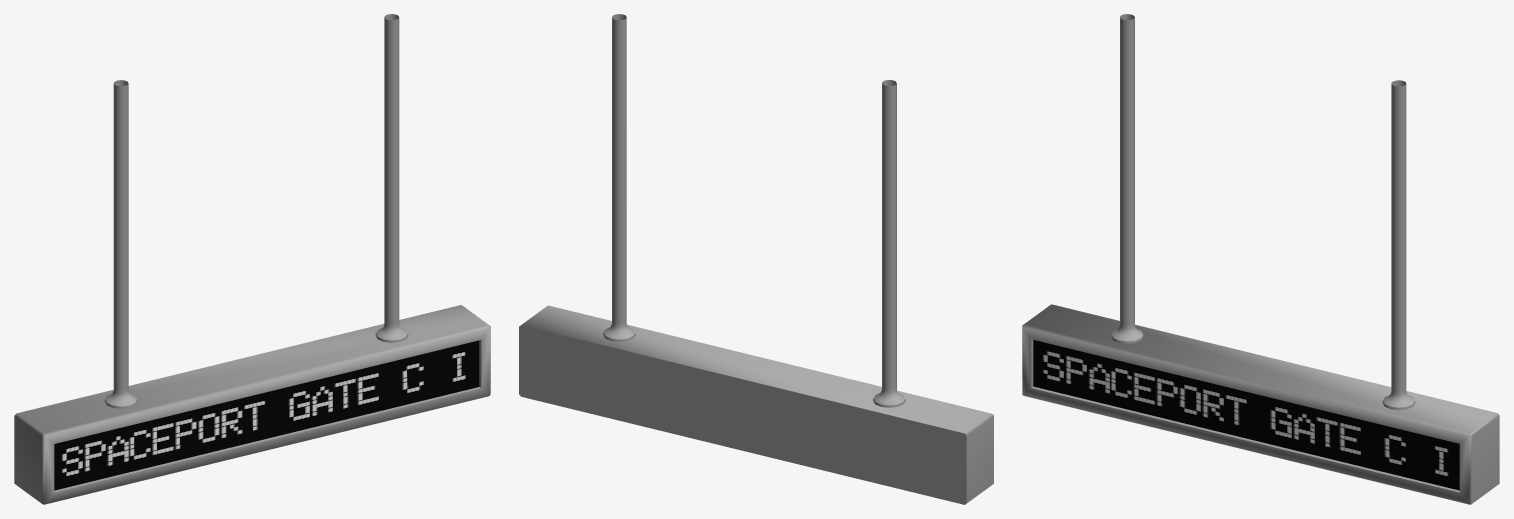
The model's file is LCDDisplay.fbx.
3 views of the same model, side by side, from view 1: azimuth 30°, elevation 25°; view 2: azimuth 150°, elevation 25°; view 3: azimuth 330°, elevation 25° (orthographic).
Visible parts, largest first — view 1: Display; view 2: Display; view 3: Display.
Part boxes in pixels (x1,y1,x2,y2): Display: (14, 14, 490, 504); Display: (519, 14, 993, 504); Display: (1022, 14, 1499, 504).
Size of the model in its own units: 1 by 0.8311 by 0.1119.
